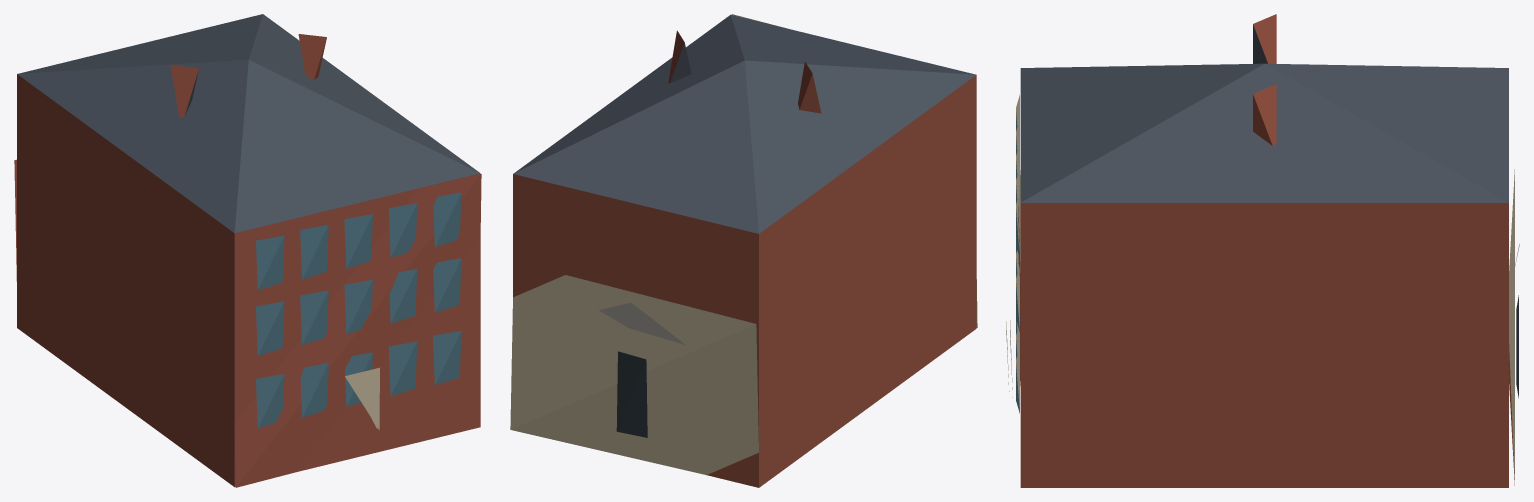
Rendered from museum-van-loon.lod2.glb.
3 views of the same model, side by side, from view 1: azimuth 30°, elevation 25°; view 2: azimuth 150°, elevation 25°; view 3: azimuth 270°, elevation 25° (orthographic). The views are drawn at different scales.
Visible parts, largest first — view 1: lod2; view 2: lod2; view 3: lod2.
Part boxes in pixels (<box>): lod2: <box>14,14,481,487</box>; lod2: <box>510,14,977,487</box>; lod2: <box>1006,14,1519,487</box>.
Size of the model in its own units: 14.9 by 18.9 by 23.99.
